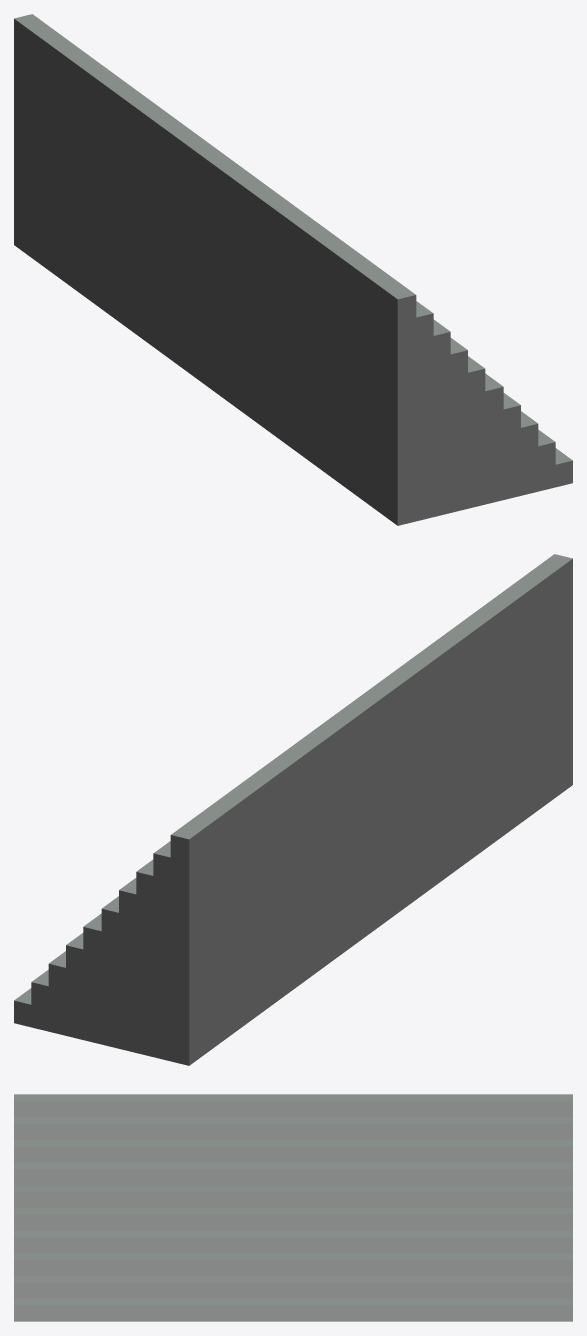
Rendered from field_10.fbx.
The picture shows the model from 3 angles, top to bottom: view 1: azimuth 30°, elevation 25°; view 2: azimuth 150°, elevation 25°; view 3: azimuth 270°, elevation 25°; orthographic projection. The views are drawn at different scales.
Parts seen in each view (by area): view 1: Field_stairs_01; view 2: Field_stairs_01; view 3: Field_stairs_01.
Boxes of the visible parts, box(x1,y1,x2,y2) form: Field_stairs_01: box(14, 14, 572, 525); Field_stairs_01: box(14, 554, 572, 1065); Field_stairs_01: box(14, 1094, 572, 1321).
Bounding box in the file's own units: 0.5673 × 0.7007 × 2.15.
1 material, 1 textured.
